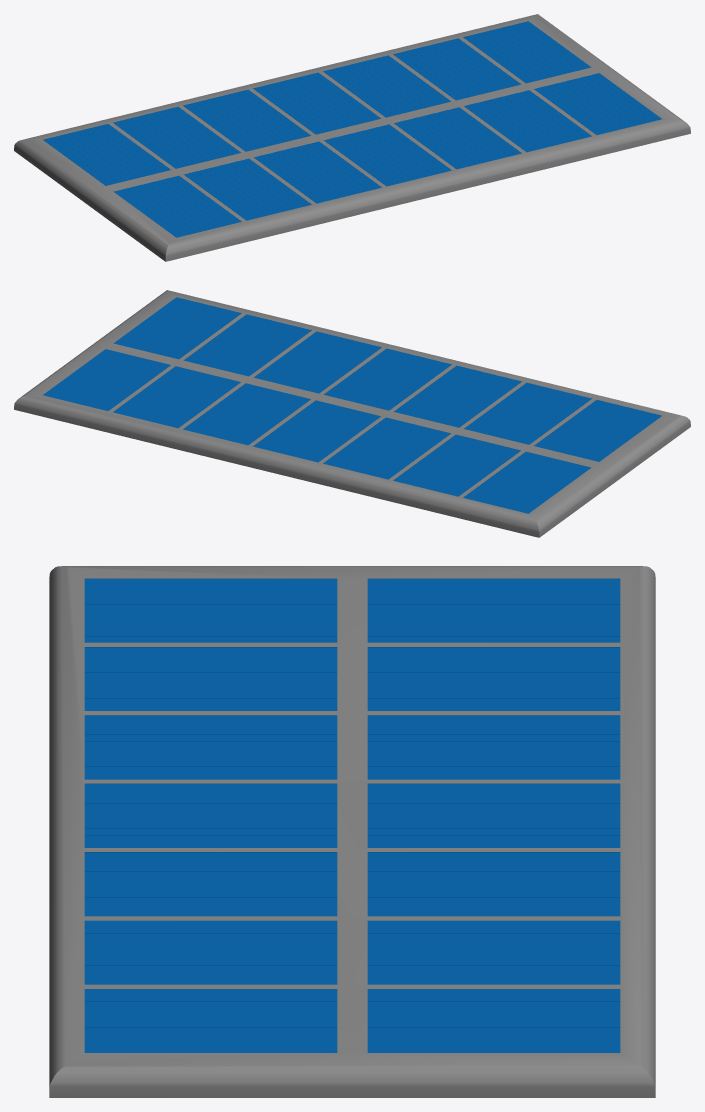
The model's file is 06-Solar-panels-single-deci.glb.
The picture shows the model from 3 angles, top to bottom: view 1: azimuth 30°, elevation 25°; view 2: azimuth 150°, elevation 25°; view 3: azimuth 270°, elevation 25°; orthographic projection. The views are drawn at different scales.
Visible parts, largest first — view 1: Polygon.002; view 2: Polygon.002; view 3: Polygon.002.
Part boxes in pixels (x1,y1,x2,y2): Polygon.002: (14, 14, 690, 261); Polygon.002: (14, 290, 690, 537); Polygon.002: (49, 566, 655, 1097).
Bounding box in the file's own units: 0.12 × 0.00331 × 0.06.
